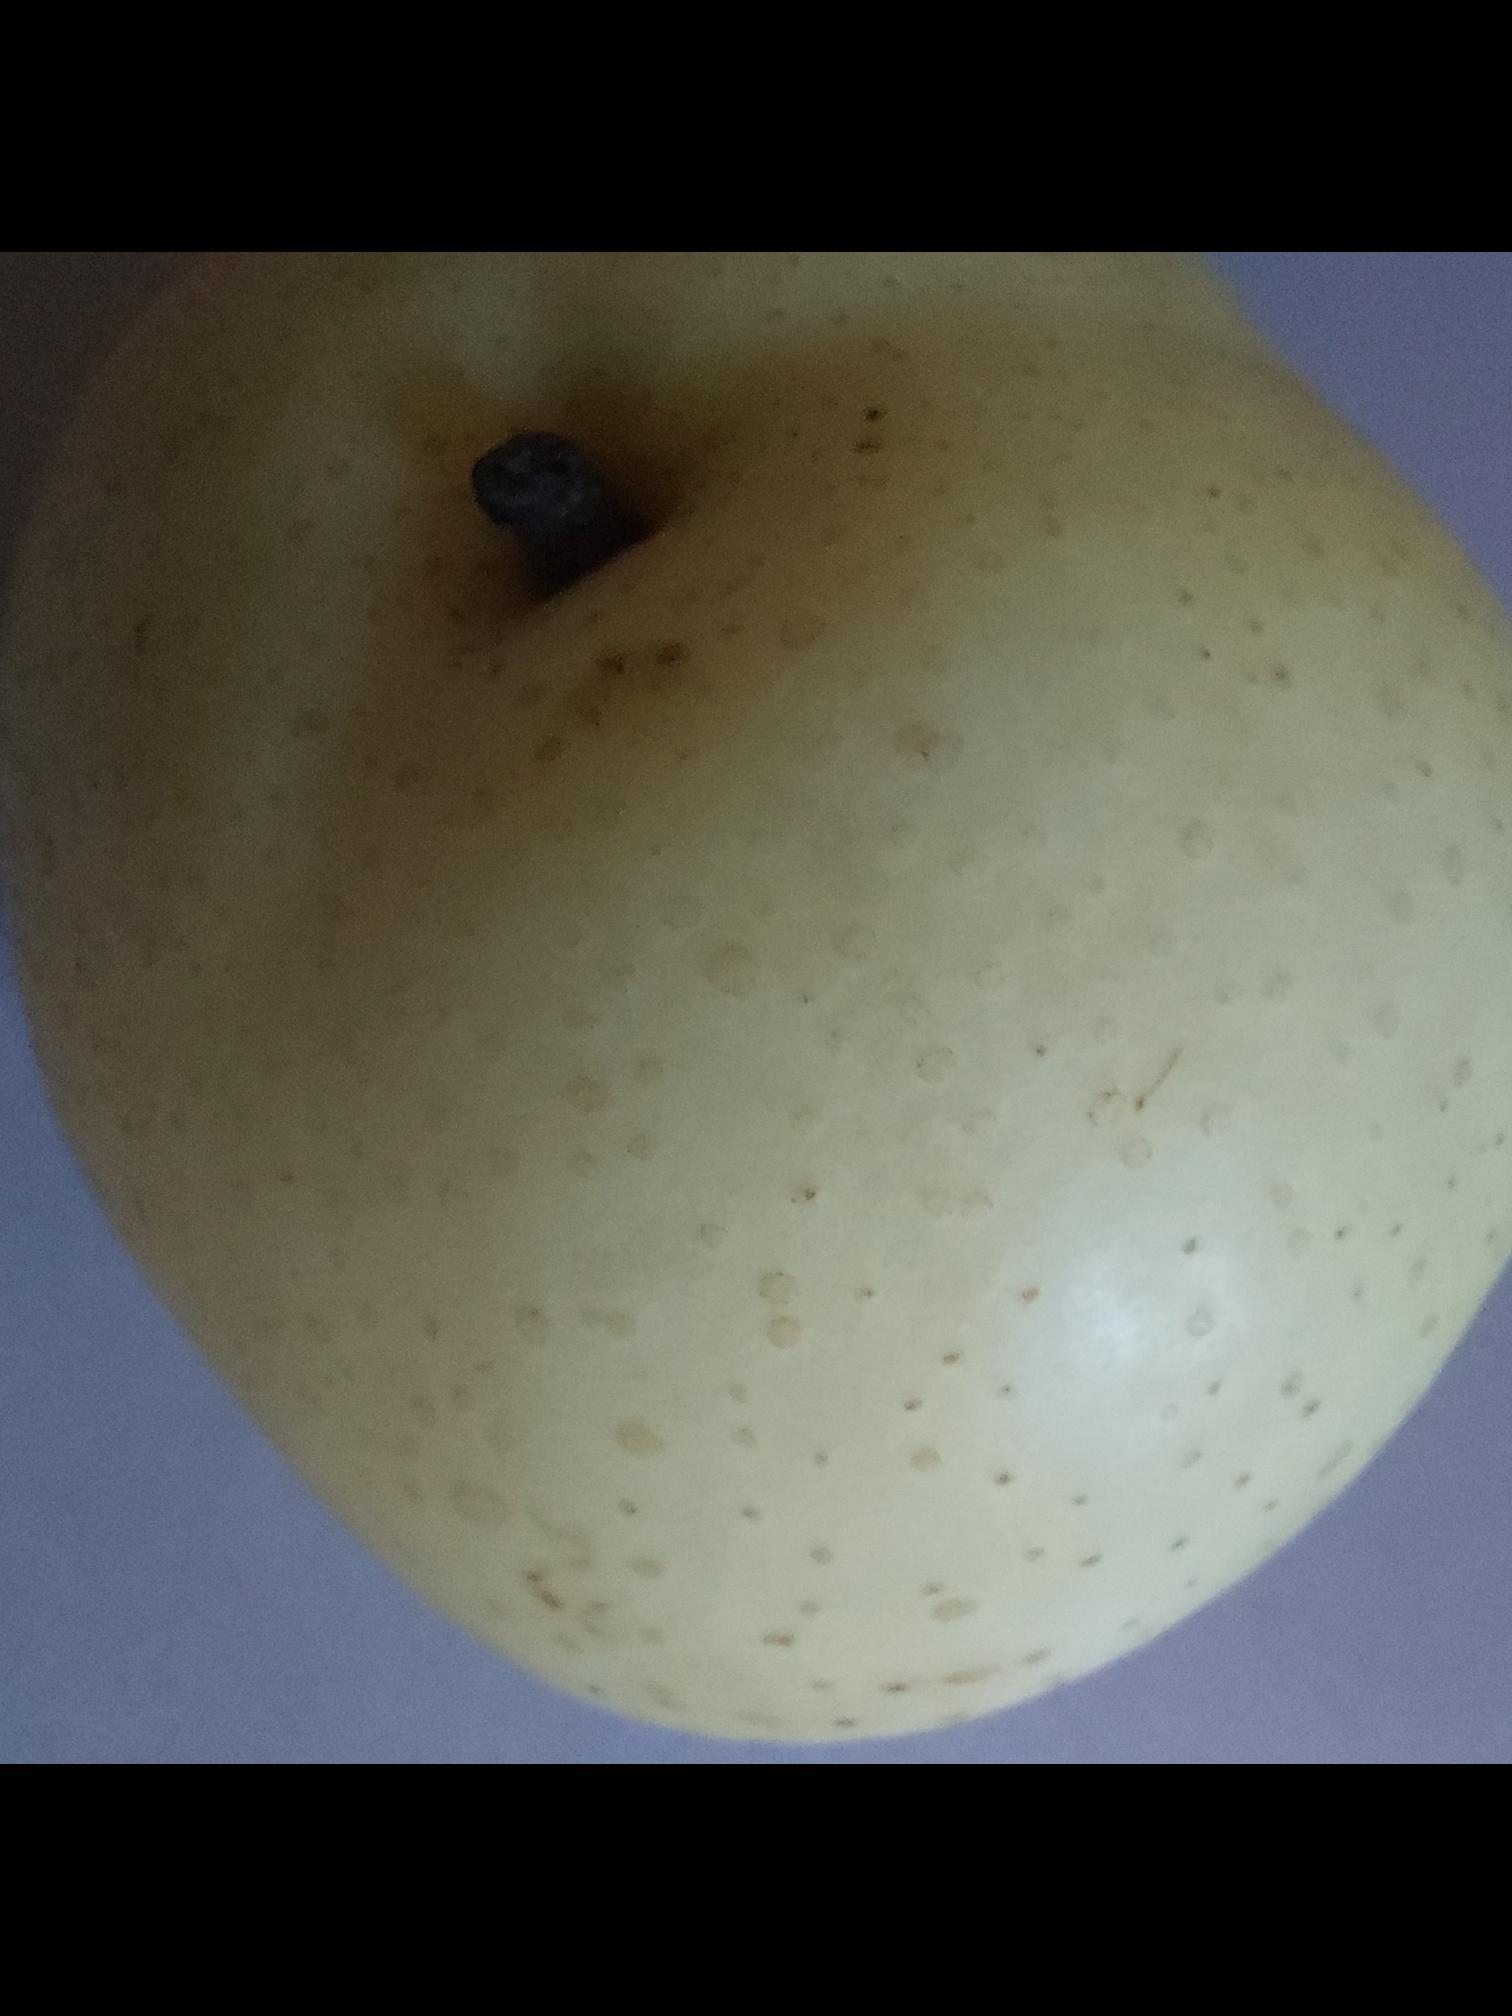Good Pear: (0, 259, 1512, 1764)
